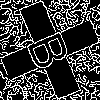B: (25, 25, 81, 74)
